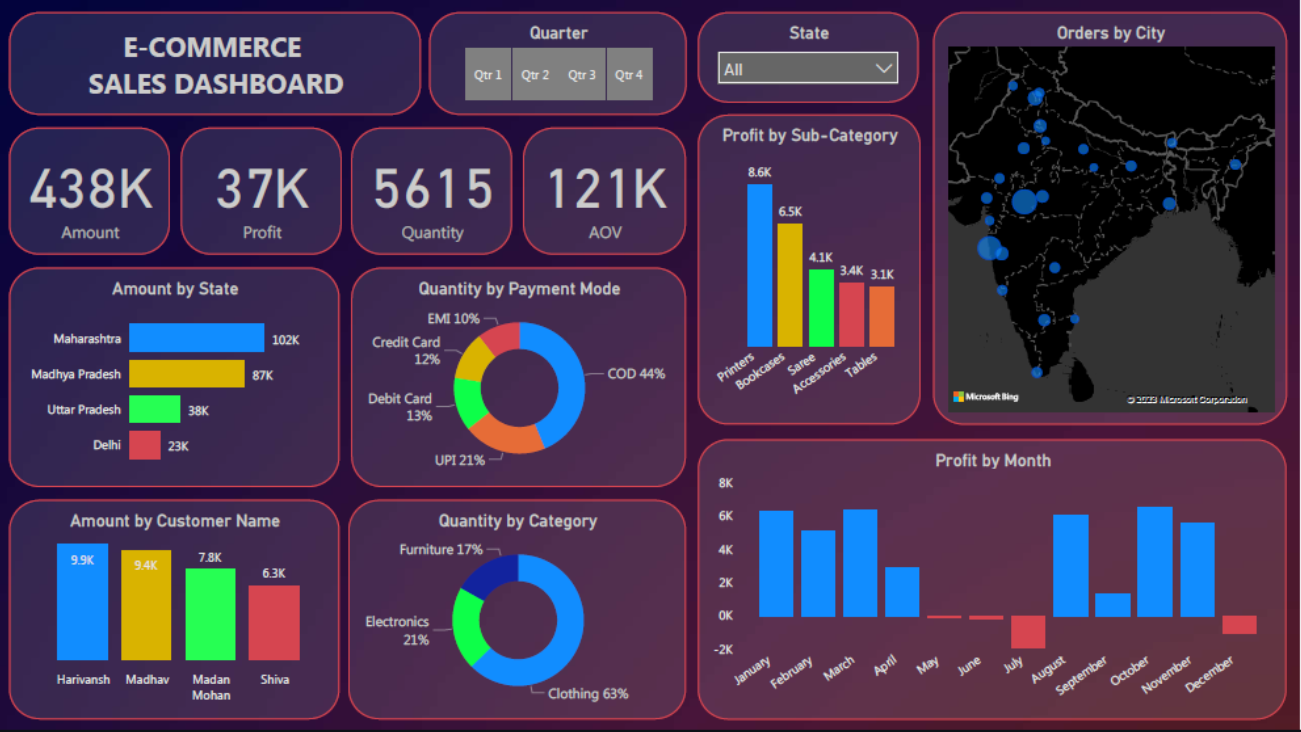

The dashboard page shown, as its layout file describes it:
{"tool":"powerbi","page":{"name":"Page 1","canvas":[1280,720],"ordinal":0},"visuals":[{"type":"textbox","box":[9.9,14.2,404.7,100.8],"z":0},{"type":"columnChart","fields":{"Category":["Orders.Order Date.Variation.Date Hierarchy.Month"],"Y":["Sum(Details.Profit)"]},"box":[687.3,434.6,579.4,275.5],"z":1000},{"type":"columnChart","fields":{"Category":["Details.Sub-Category"],"Y":["Sum(Details.Profit)"]},"box":[687.3,115,218.7,305.3],"z":2000},{"type":"donutChart","fields":{"Category":["Details.Category"],"Y":["Sum(Details.Quantity)"]},"box":[343.7,494.2,332.3,215.9],"z":3000},{"type":"donutChart","fields":{"Category":["Details.PaymentMode"],"Y":["Sum(Details.Quantity)"]},"box":[346.5,265.6,329.5,215.9],"z":4000},{"type":"card","fields":{"Values":["Sum(Details.Amount)"]},"box":[9.9,127.8,157.6,125],"z":5000},{"type":"card","fields":{"Values":["Sum(Details.Profit)"]},"box":[178.5,127.8,157.6,125],"z":6000},{"type":"card","fields":{"Values":["Sum(Details.Quantity)"]},"box":[347,127.8,157.6,125],"z":7000},{"type":"card","fields":{"Values":["Sum(Details.AOV)"]},"box":[515.5,127.8,160.5,125],"z":8000},{"type":"barChart","fields":{"Category":["Orders.State"],"Y":["Sum(Details.Amount)"]},"box":[9.9,265.6,325.2,215.9],"z":9000},{"type":"columnChart","fields":{"Category":["Orders.Customer Name"],"Y":["Sum(Details.Amount)"]},"box":[10,494.2,325,216],"z":10000},{"type":"slicer","title":"Quarter","fields":{"Values":["Orders.Order Date.Variation.Date Hierarchy.Quarter"]},"box":[423.2,14.2,252.8,100.8],"z":11000},{"type":"slicer","title":"State","fields":{"Values":["Orders.State"]},"box":[687.3,14.2,217.3,89.5],"z":12000},{"type":"map","title":"Orders by City","fields":{"Category":["Orders.City"],"Size":["CountNonNull(Orders.Order ID)"]},"box":[905.8,0,374.4,434.9],"z":13000}]}

Visuals, with their boxes in screenshot pixels (x1, y1, x2, y2), scaled from the page's 1280x720 canvas onto the 1301x732 screenshot:
textbox: box(10, 14, 421, 117)
columnChart - Orders.Order Date.Variation.Date Hierarchy.Month x Sum(Details.Profit): box(699, 442, 1287, 722)
columnChart - Details.Sub-Category x Sum(Details.Profit): box(699, 117, 921, 427)
donutChart - Details.Category x Sum(Details.Quantity): box(349, 502, 687, 722)
donutChart - Details.PaymentMode x Sum(Details.Quantity): box(352, 270, 687, 490)
card - Sum(Details.Amount): box(10, 130, 170, 257)
card - Sum(Details.Profit): box(181, 130, 342, 257)
card - Sum(Details.Quantity): box(353, 130, 513, 257)
card - Sum(Details.AOV): box(524, 130, 687, 257)
barChart - Orders.State x Sum(Details.Amount): box(10, 270, 341, 490)
columnChart - Orders.Customer Name x Sum(Details.Amount): box(10, 502, 340, 722)
"Quarter" slicer: box(430, 14, 687, 117)
"State" slicer: box(699, 14, 919, 105)
"Orders by City" map: box(921, 0, 1300, 442)
